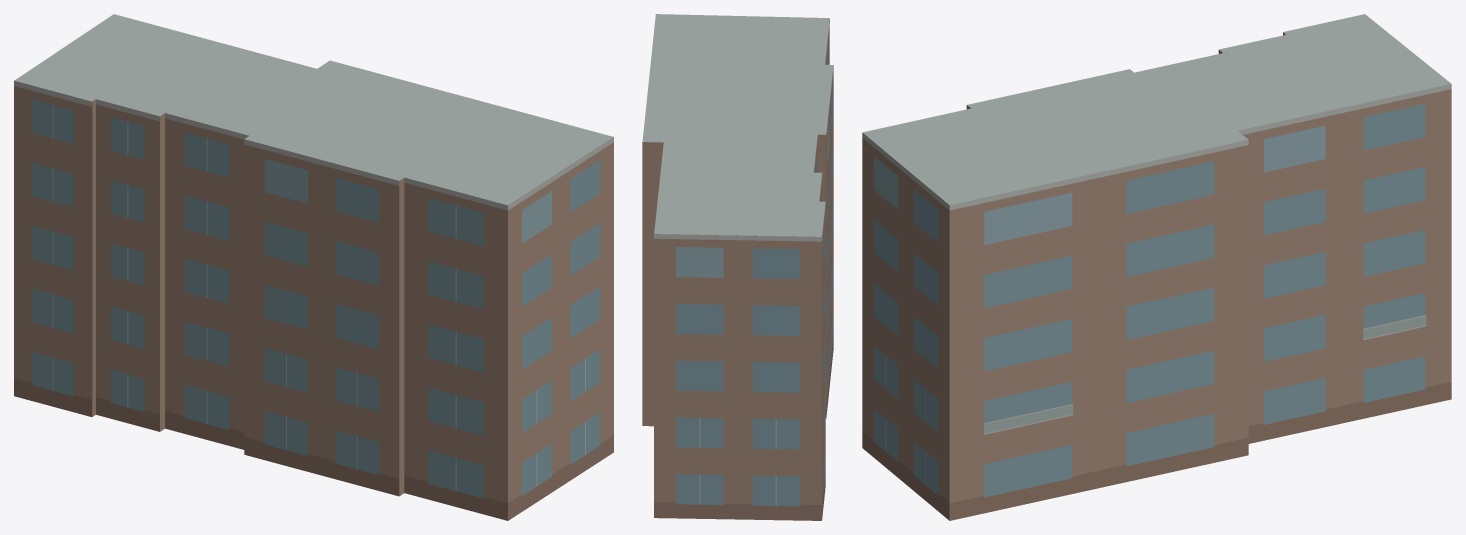
The model's file is survey-upis-33006319.glb.
The picture shows the model from 3 angles, left to right: view 1: azimuth 30°, elevation 25°; view 2: azimuth 150°, elevation 25°; view 3: azimuth 270°, elevation 25°; orthographic projection. The views are drawn at different scales.
Visible parts, largest first — view 1: survey-upis-33006319.tmp; view 2: survey-upis-33006319.tmp; view 3: survey-upis-33006319.tmp.
Boxes of the visible parts, x1=… form: survey-upis-33006319.tmp: x1=14, y1=14, x2=613, y2=520; survey-upis-33006319.tmp: x1=642, y1=14, x2=833, y2=520; survey-upis-33006319.tmp: x1=862, y1=14, x2=1451, y2=520.
Size of the model in its own units: 19.13 by 14.7 by 24.89.
